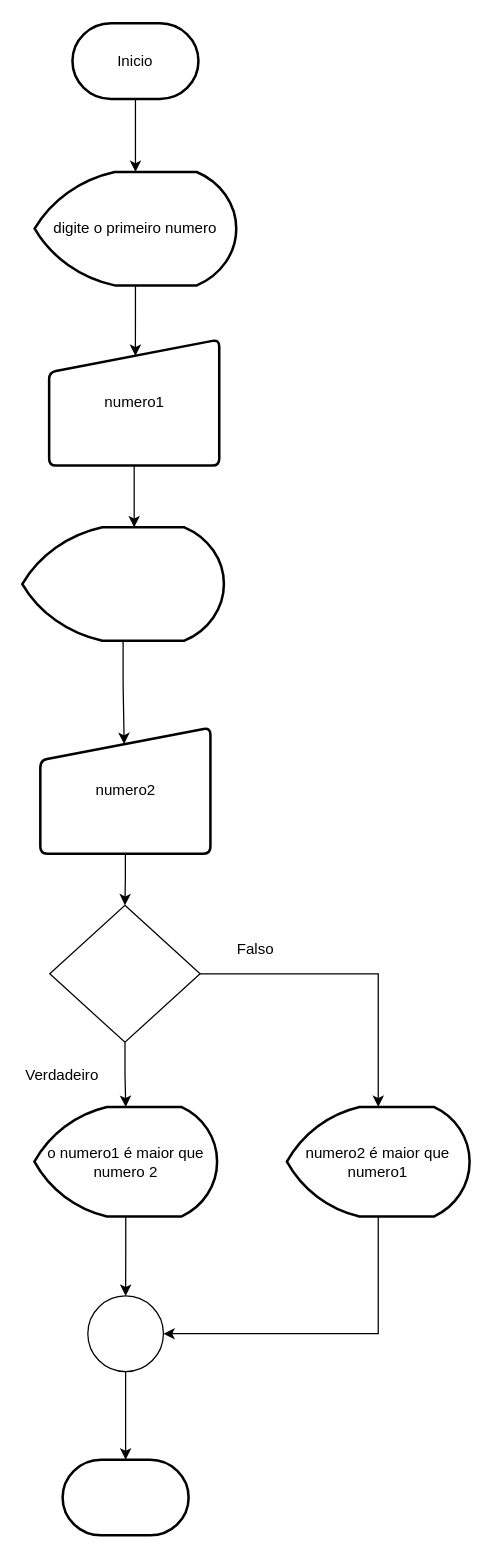
This 493x1557 diagram has some shape labels left out. The shapes that lost their labels are listed below. From the top down, each one's centre as x and y in pixels, then its label:
[122,583]: digite o segundo numero
[124,973]: numero1 > numero2
[125,1497]: Fim
